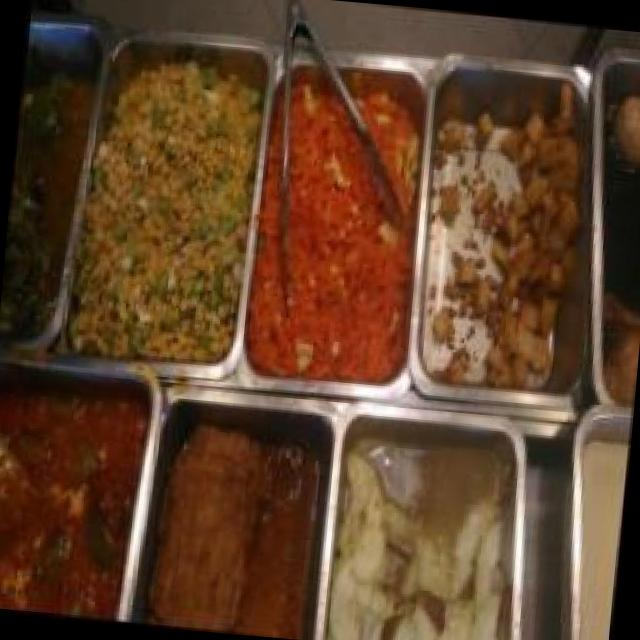carrot_eggs: (251, 83, 425, 380)
